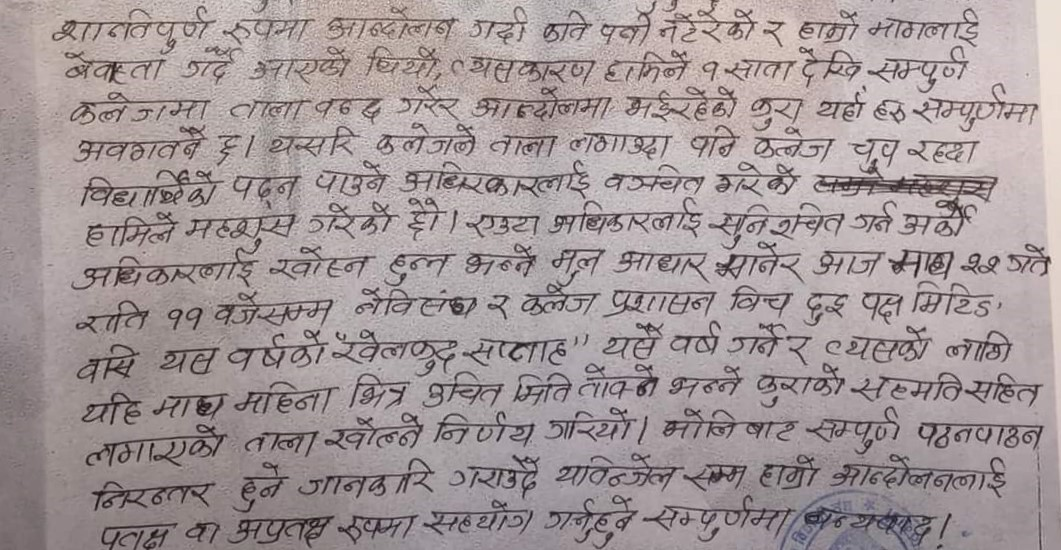text: (399, 157, 594, 201), (70, 248, 257, 292), (48, 4, 209, 53), (829, 450, 990, 497), (80, 421, 224, 473), (639, 500, 789, 547), (294, 455, 439, 501), (546, 200, 708, 241), (914, 82, 1038, 135), (76, 166, 218, 210), (332, 328, 459, 377), (659, 405, 797, 450), (64, 89, 217, 127), (322, 4, 460, 46), (471, 85, 614, 125), (707, 202, 851, 241), (541, 493, 636, 550), (800, 403, 905, 454), (553, 451, 680, 493), (349, 282, 478, 323), (223, 328, 328, 378), (864, 48, 983, 92), (208, 287, 334, 328), (421, 496, 538, 540), (72, 126, 207, 164), (449, 51, 595, 86), (914, 416, 1048, 453), (90, 476, 214, 515), (225, 94, 385, 124), (621, 84, 741, 124), (248, 46, 353, 90), (266, 241, 372, 284), (909, 279, 1009, 324), (852, 367, 963, 407), (445, 451, 543, 496), (821, 326, 933, 365), (305, 196, 399, 242), (605, 282, 718, 320), (183, 210, 299, 247), (753, 365, 846, 411), (374, 121, 480, 161), (322, 415, 430, 454), (225, 511, 333, 550), (426, 412, 537, 449), (233, 378, 337, 417), (83, 208, 178, 249), (655, 9, 760, 46), (461, 332, 572, 367), (575, 358, 661, 403), (544, 405, 633, 448), (264, 124, 362, 163), (62, 49, 167, 85), (423, 367, 505, 412), (602, 161, 707, 196), (567, 126, 671, 161), (608, 246, 710, 281), (714, 159, 798, 200), (72, 297, 151, 340), (713, 246, 805, 282), (337, 509, 417, 550), (900, 198, 978, 240), (601, 49, 691, 85), (963, 369, 1043, 409), (72, 340, 139, 387), (811, 95, 911, 126), (520, 281, 597, 320), (864, 15, 967, 44), (231, 169, 302, 211), (367, 42, 443, 81), (944, 328, 1020, 367), (222, 11, 311, 44), (74, 390, 147, 430), (666, 364, 744, 401), (382, 247, 454, 287), (343, 370, 411, 412), (600, 317, 664, 361), (234, 459, 286, 513), (752, 128, 837, 161), (462, 205, 541, 240), (149, 384, 228, 419), (809, 244, 885, 280), (723, 279, 795, 317), (466, 4, 529, 47), (461, 243, 536, 279), (310, 163, 389, 197), (723, 49, 795, 86), (907, 134, 982, 169), (800, 44, 864, 85), (155, 339, 220, 379), (179, 46, 240, 88), (795, 8, 862, 46), (889, 246, 956, 284), (759, 455, 824, 494), (509, 370, 575, 408), (241, 425, 318, 457), (683, 457, 749, 493), (486, 132, 561, 163), (394, 85, 463, 118), (551, 240, 602, 284), (1001, 243, 1061, 280), (97, 521, 172, 550), (802, 287, 852, 330), (541, 8, 594, 48), (689, 123, 740, 164), (725, 320, 780, 358), (599, 12, 656, 48), (667, 321, 722, 358), (747, 92, 805, 127), (401, 194, 446, 239), (857, 286, 906, 325), (846, 135, 902, 167), (848, 197, 895, 235), (957, 247, 1002, 282), (164, 302, 205, 335), (184, 516, 223, 550), (785, 328, 816, 369), (210, 127, 243, 165), (483, 292, 513, 324), (761, 18, 790, 51), (700, 55, 721, 85)
